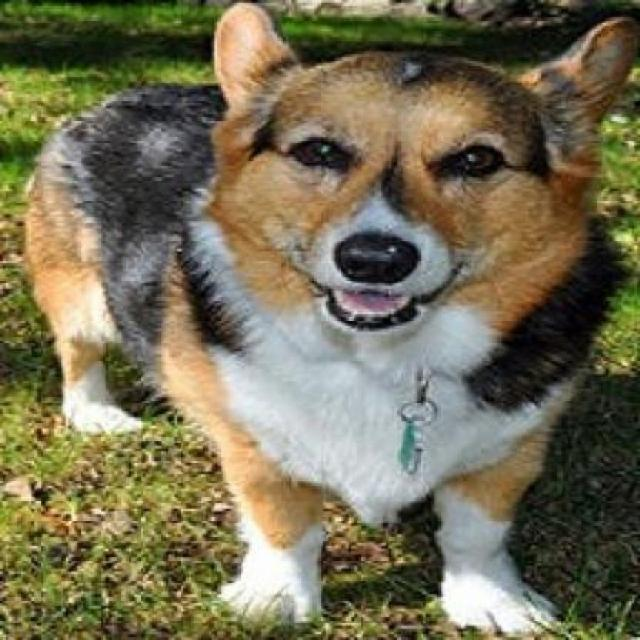Dog: (23, 0, 635, 637)
